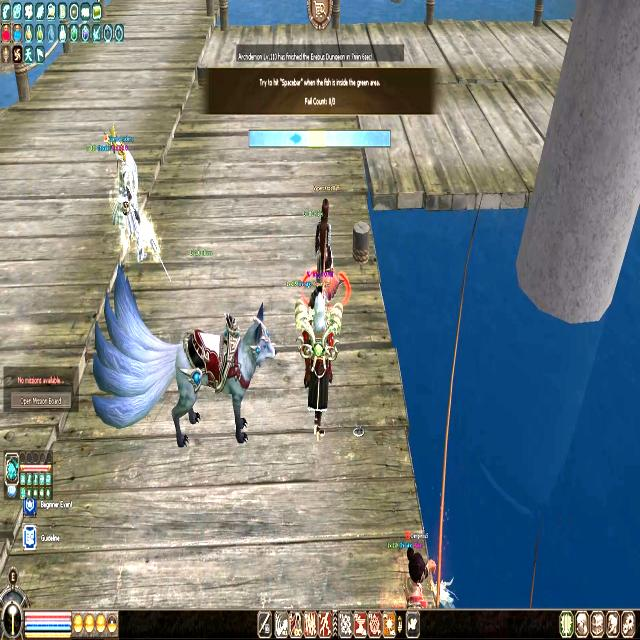fishes: (290, 132, 302, 146)
